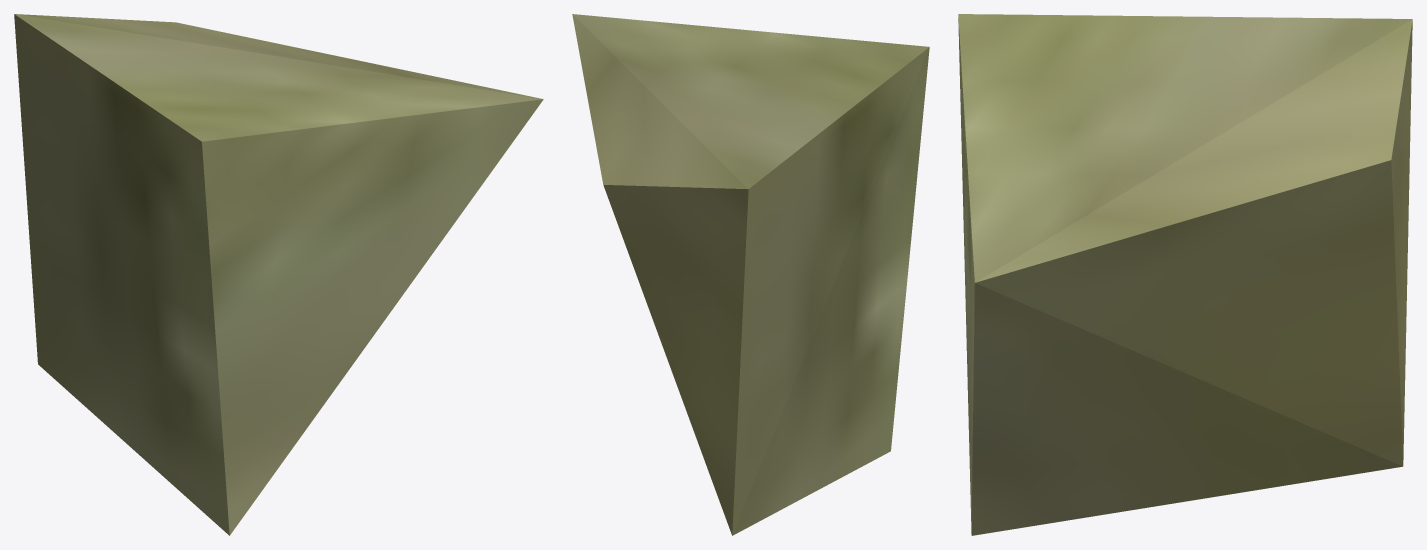
3 renders of one model, left to right at view 1: azimuth 30°, elevation 25°; view 2: azimuth 150°, elevation 25°; view 3: azimuth 270°, elevation 25°, orthographic. The views are drawn at different scales.
Size of the model in its own units: 0.0925 by 0.1018 by 0.0836.
1 material, 1 textured.
